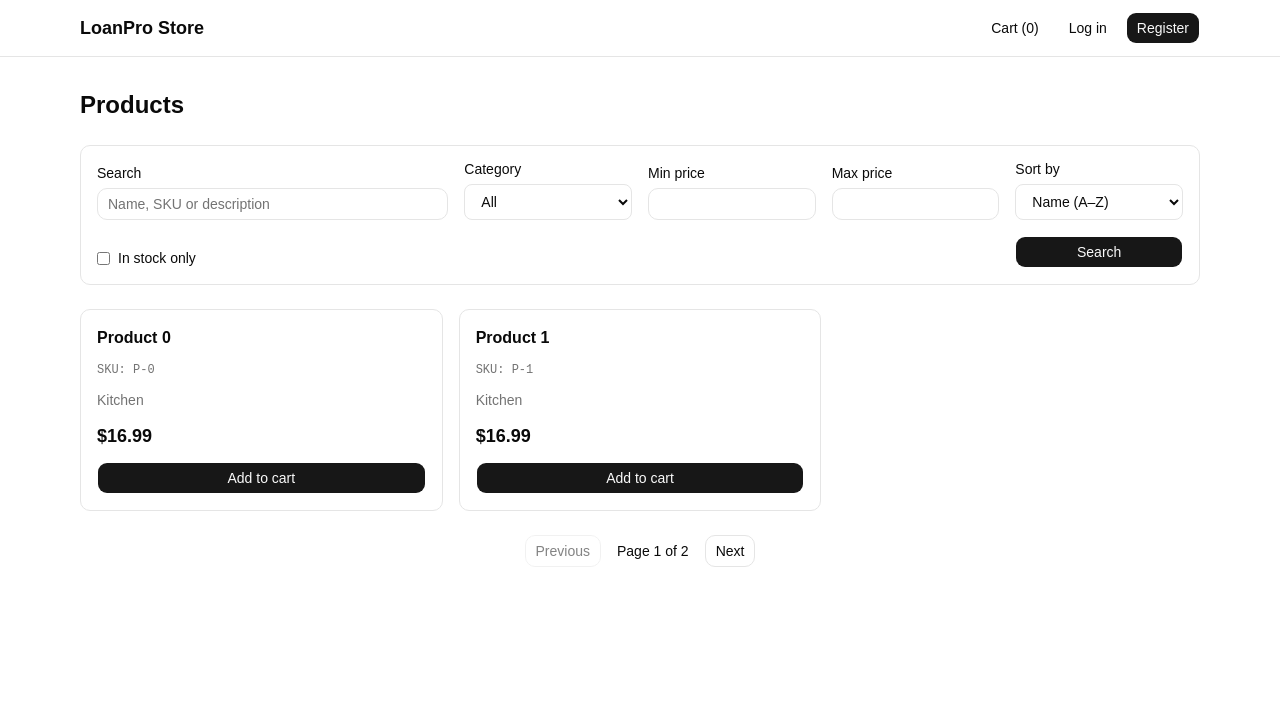
Test: catalog › pages through results
The width and height of the screenshot is (1280, 720).
Expected: the element "Product 0" is shown, [80,309,443,511]
Expected: the text "Page 1 of 2" is shown, [617,541,689,561]
What coordinates should you click on to do the following:
click the button with aria-label "Next page"
I would click on:
 (730, 551)
Its box is [705,535,756,567].
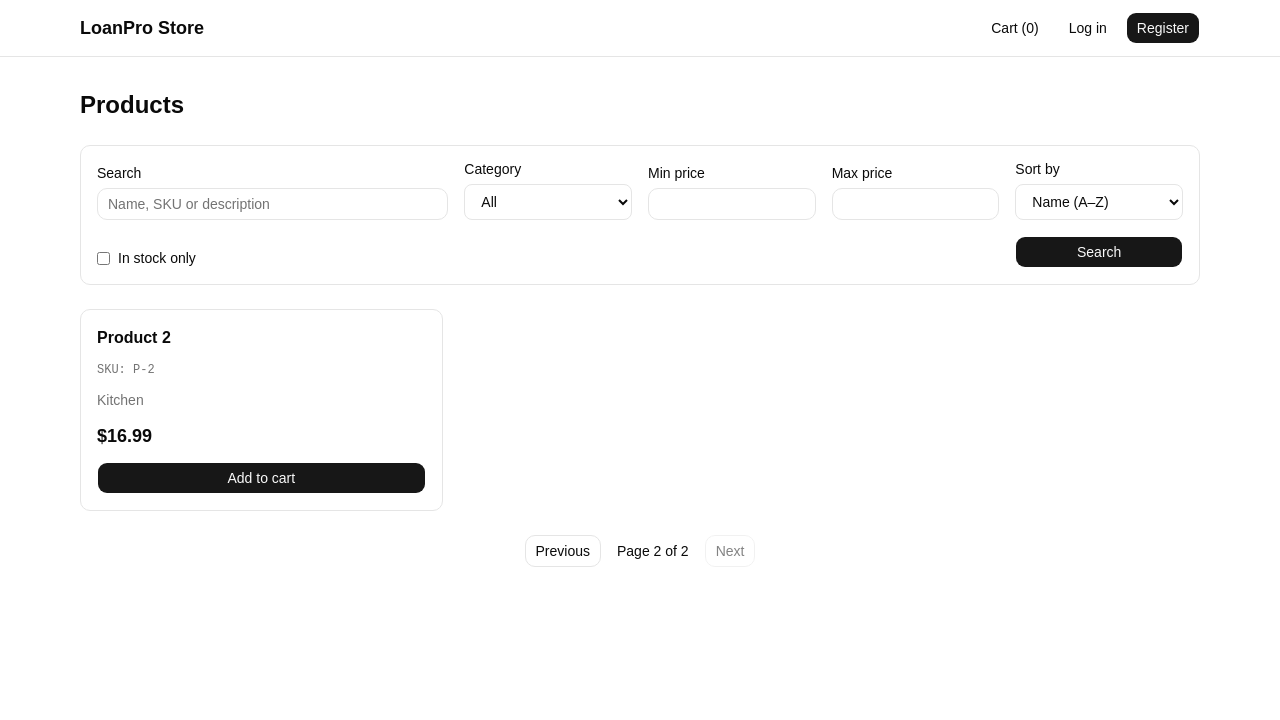
Result: the element "Product 2" is shown at [80,309,443,511]
Result: the text "Page 2 of 2" is shown at [617,541,689,561]
